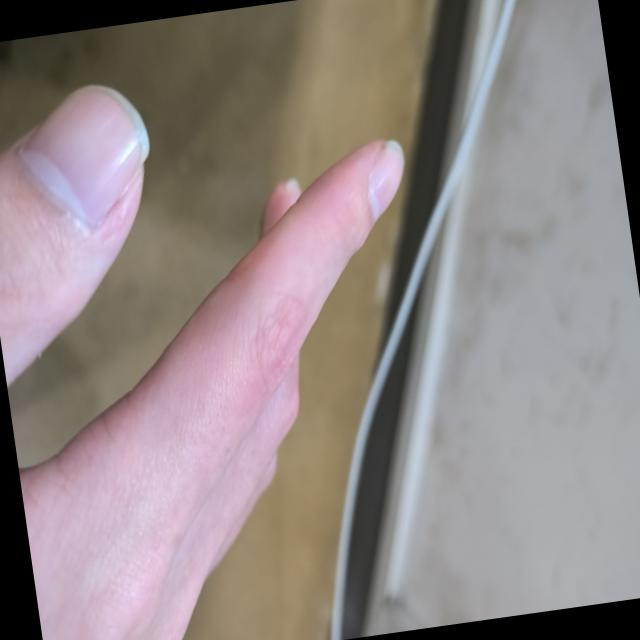Nail: (21, 85, 148, 226), (369, 141, 403, 218), (285, 179, 301, 205)
